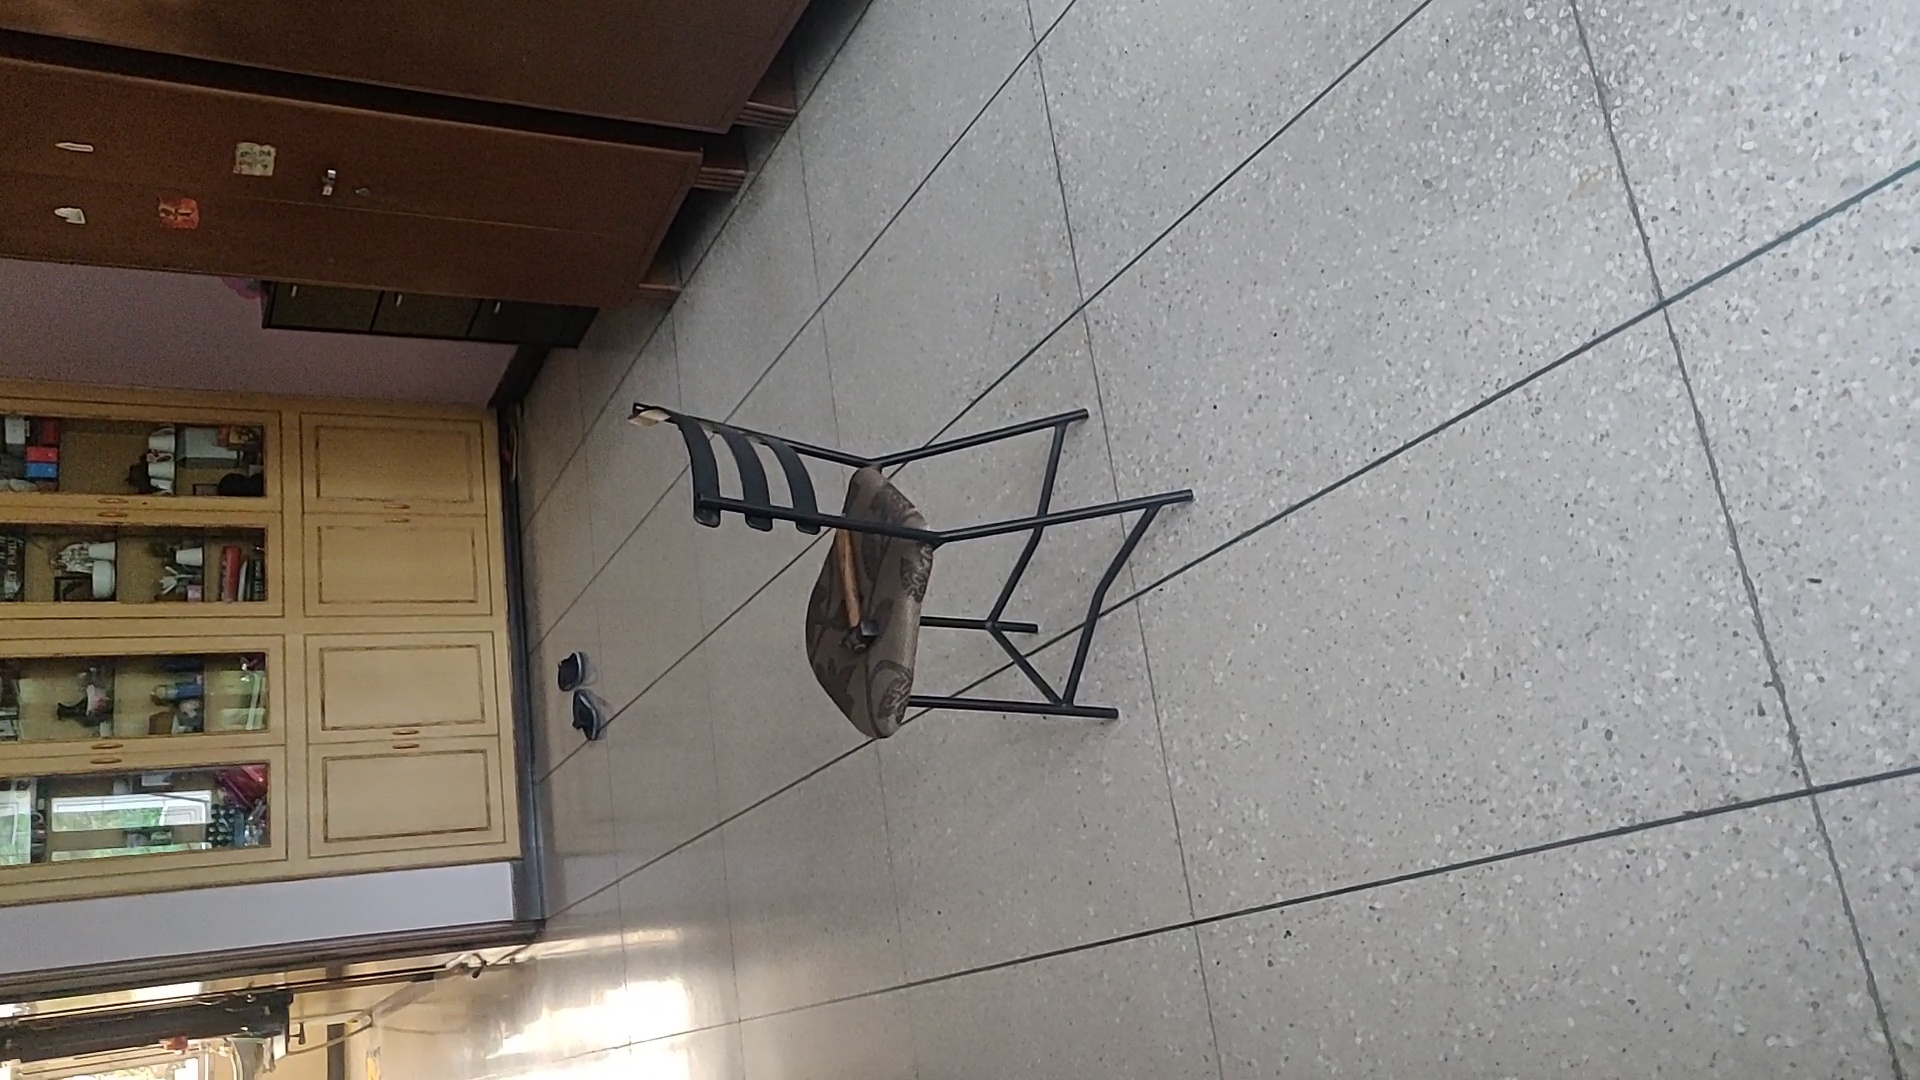hammer: (833, 527, 881, 658)
